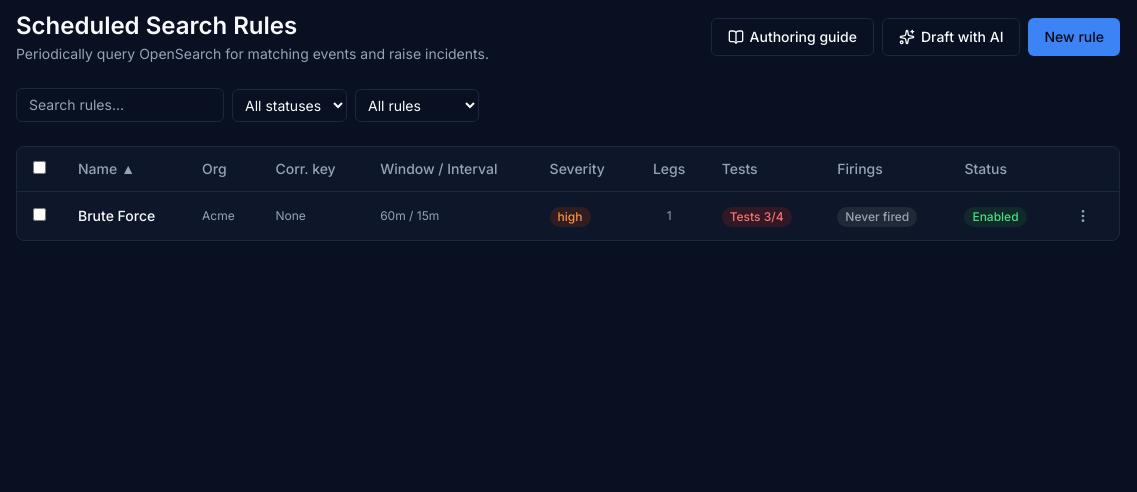
Scenario: SearchRulesAdmin — test health badge + run all › runs all tests and updates the badge from the response
expect the text "Tests 3/4" is shown: met, box [722, 206, 792, 226]
Click the button named "Actions" at (1083, 216), box [1071, 204, 1095, 228]
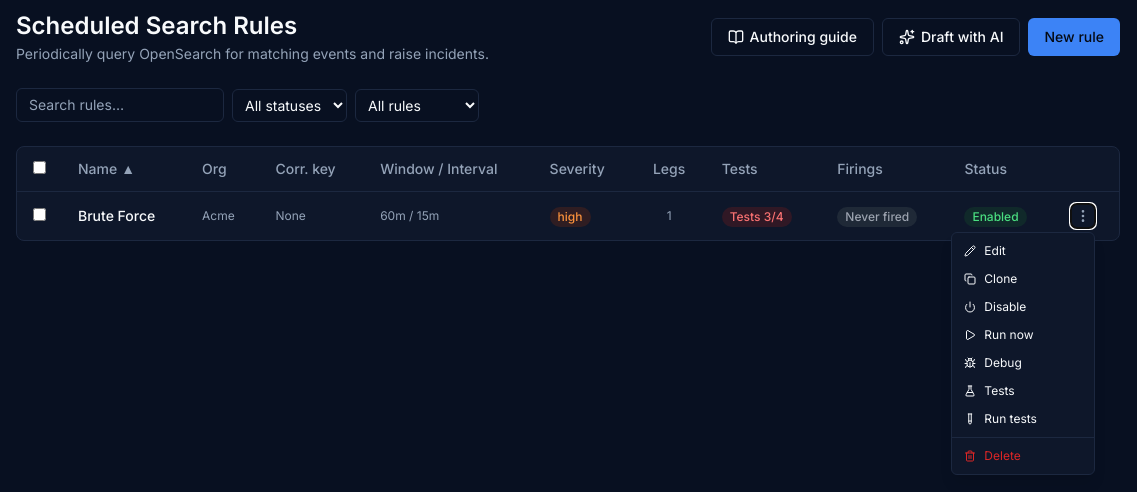
Click the button "Run tests" at (1023, 419), box [952, 405, 1094, 433]
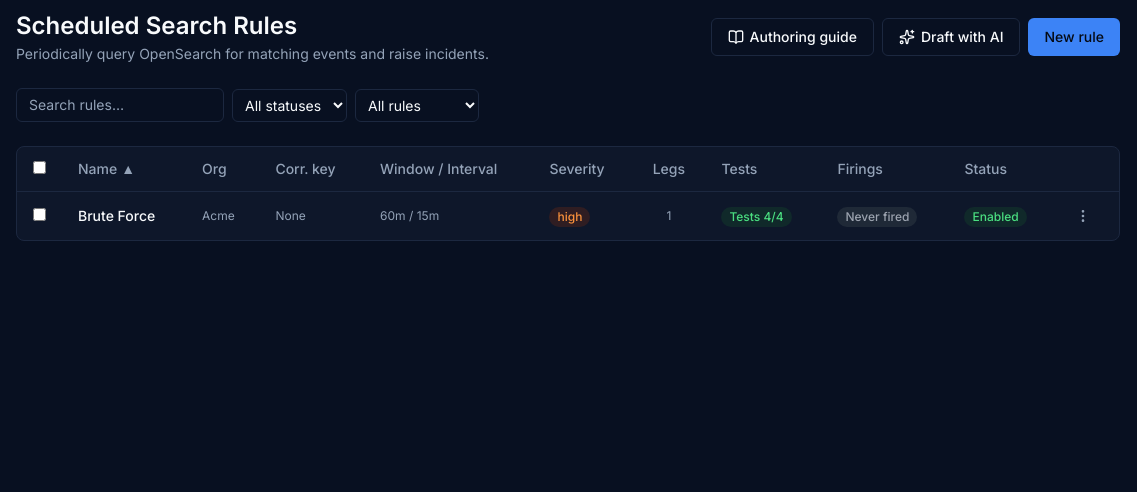
expect the text "Tests 4/4" is shown: met, box [721, 206, 792, 226]
